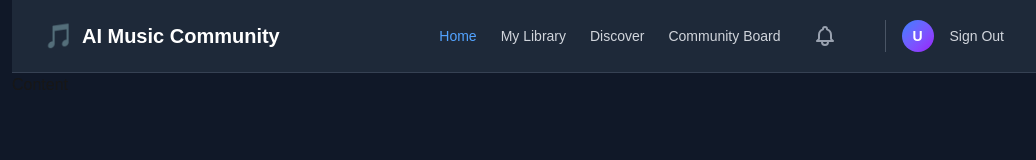
Scenario: Admin Navigation Integration › Other Navigation Items › should show profile and account links for all authenticated users
// Open avatar dropdown
What coordinates should you click on to do the following:
click the button named "User menu"
I would click on:
 (918, 36)
Its box is [902, 20, 934, 52].
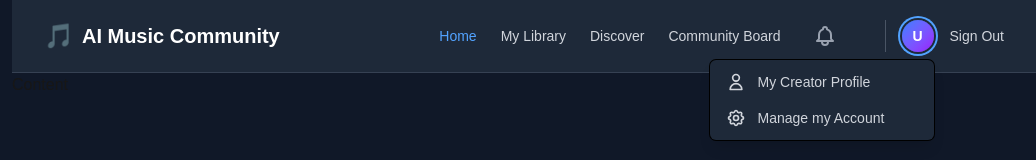
Check: the menu item "My Creator Profile" is shown, box [710, 64, 934, 100]
Check: the menu item "Manage my Account" is shown, box [710, 100, 934, 136]
